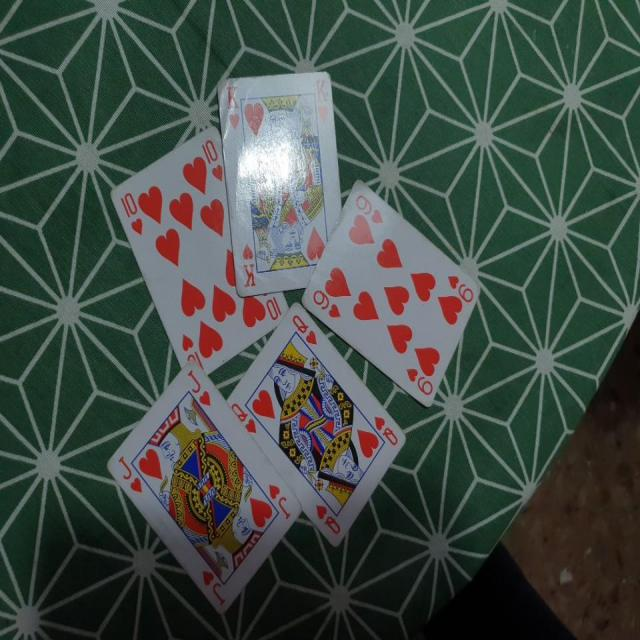10 Hearts: (112, 117, 288, 378)
9 Hearts: (302, 172, 492, 417)
J Hearts: (103, 356, 306, 618)
K Hearts: (214, 60, 345, 304)
Q Hearts: (233, 298, 408, 544)
